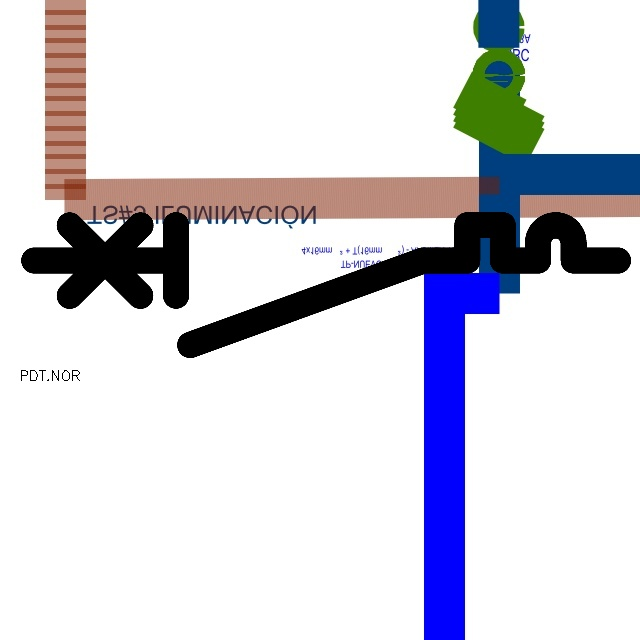interruptor_termomagnetico: (19, 210, 633, 360)
